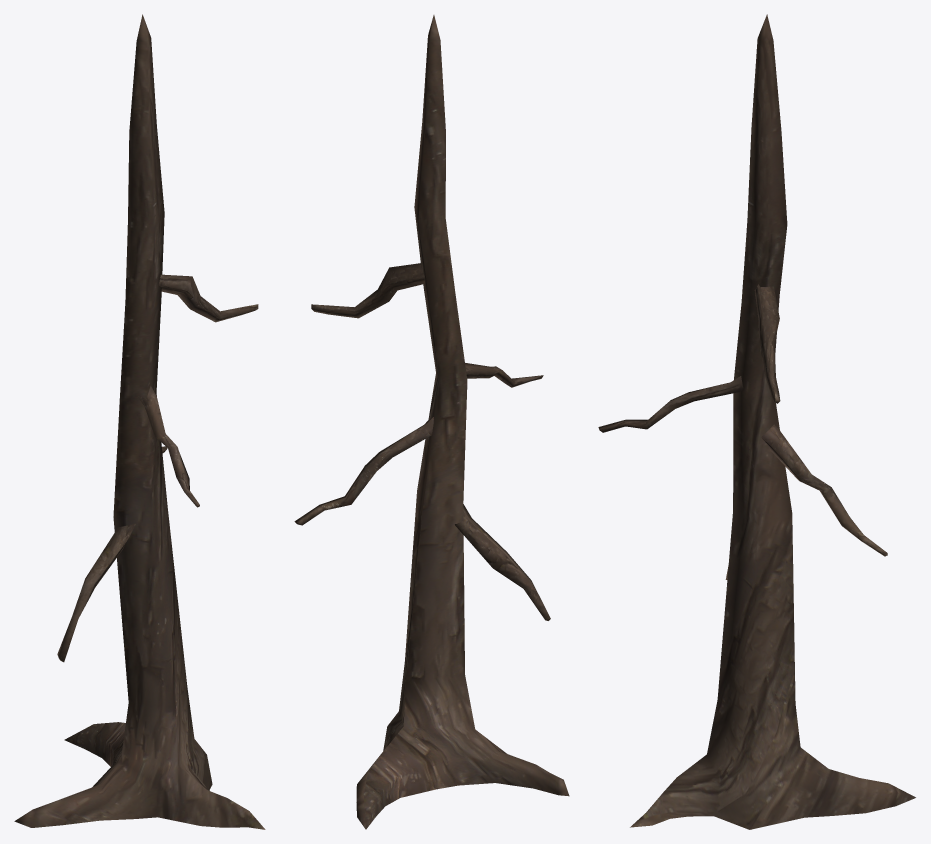
The model's file is Tree_dead_1.FBX.
The picture shows the model from 3 angles, left to right: view 1: azimuth 30°, elevation 25°; view 2: azimuth 150°, elevation 25°; view 3: azimuth 270°, elevation 25°; orthographic projection. The views are drawn at different scales.
Visible parts, largest first — view 1: Object005; view 2: Object005; view 3: Object005.
Boxes of the visible parts, left/top/right/bottom form: Object005: left=14, top=14, right=265, bottom=829; Object005: left=294, top=15, right=569, bottom=829; Object005: left=598, top=14, right=915, bottom=829.
Bounding box in the file's own units: 53.8 × 158 × 57.81.
